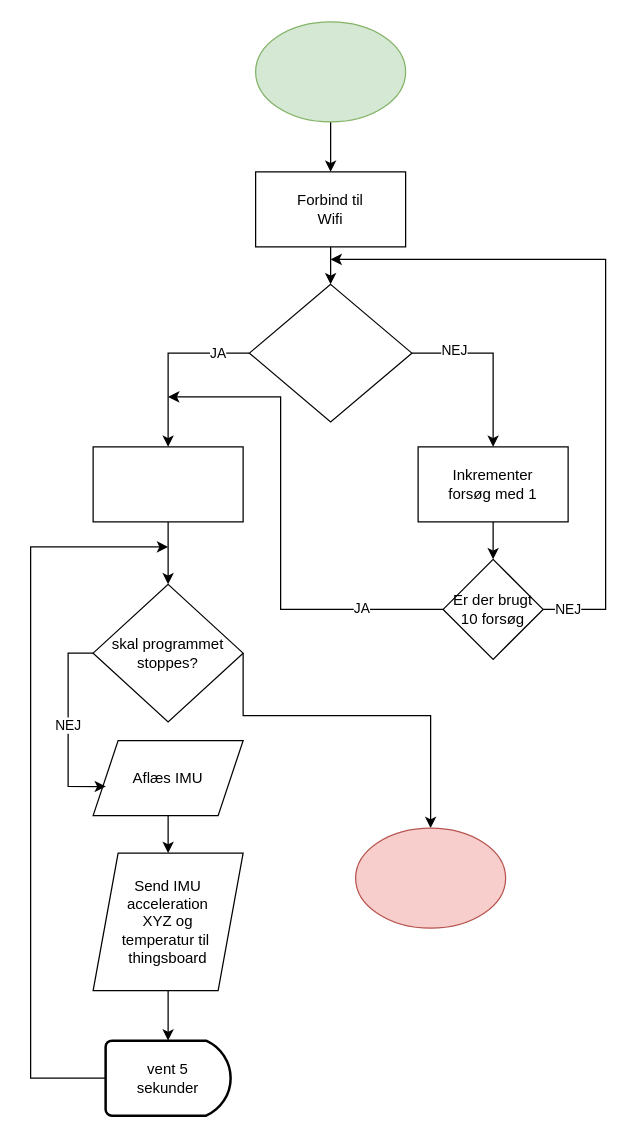
This 638x1139 diagram has some shape labels left out. The shapes that lost their labels are listed below. From the top down, each one's centre as x and y in pixels, then its label:
At (330,71): "START".
At (330,352): "Er wifi forbundet?".
At (167,484): "Forbind til Thingsboard".
At (430,877): "STOP".
